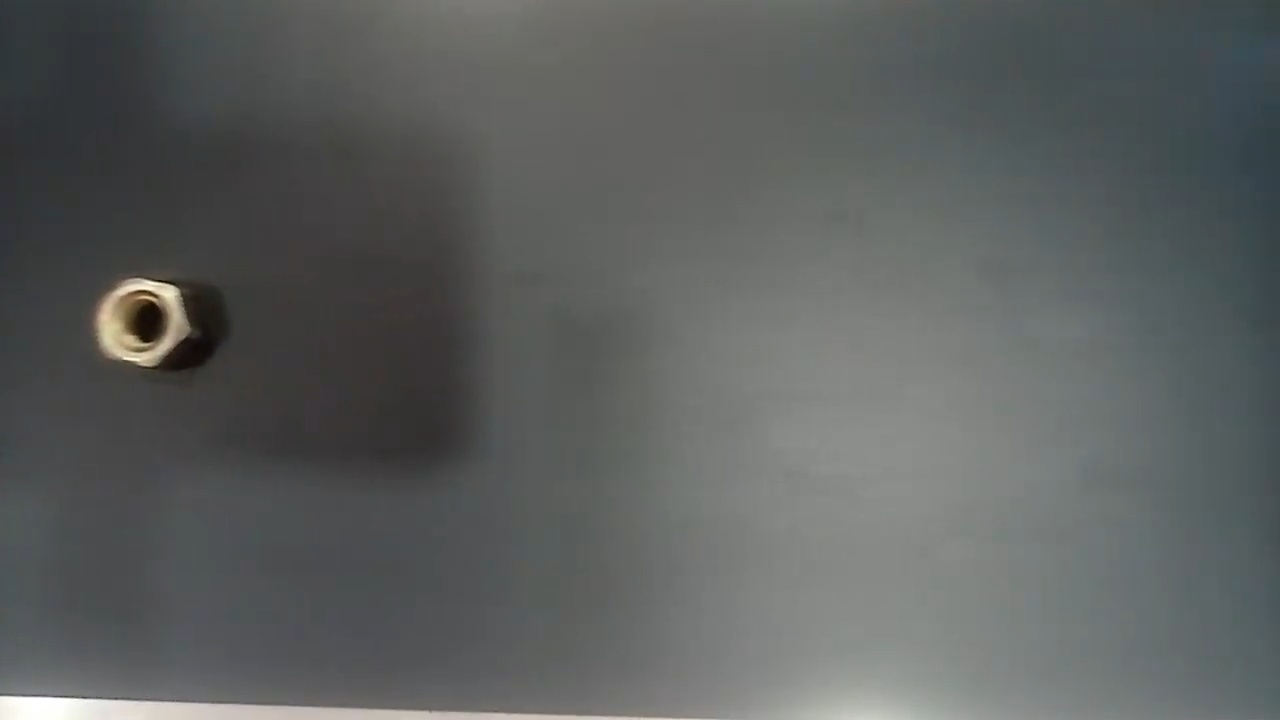Bolt: (91, 272, 206, 376)
